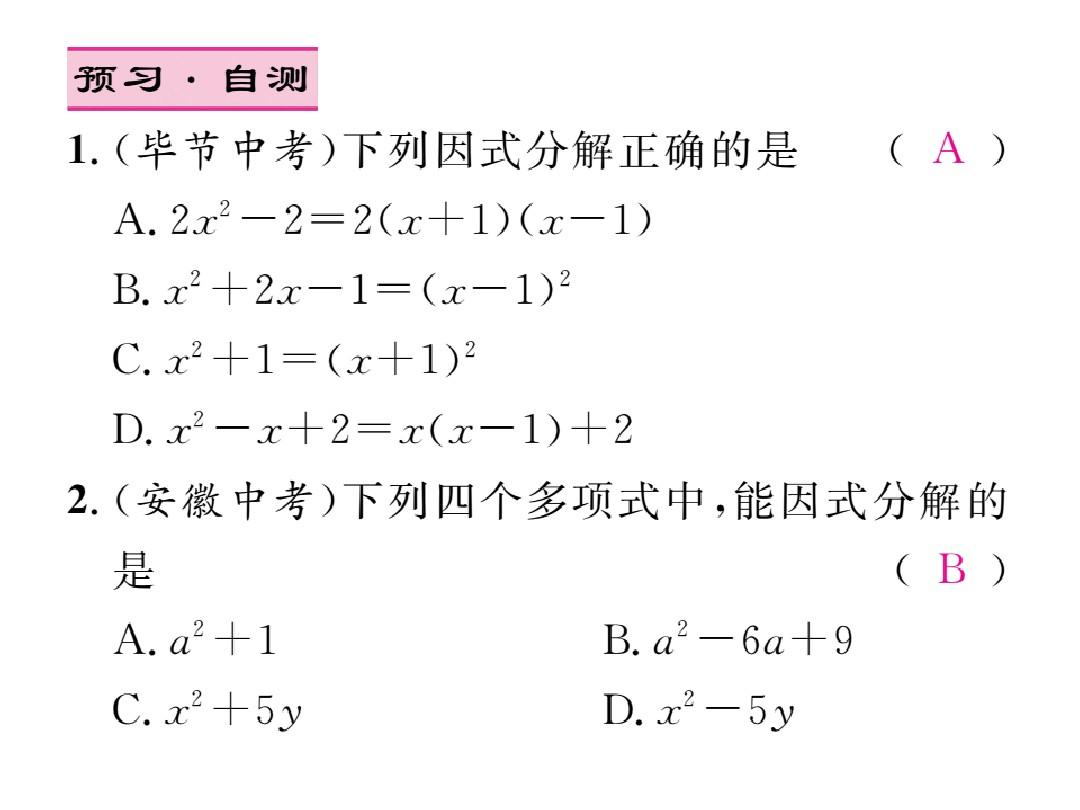square: (211, 194, 231, 221), (675, 615, 692, 641), (556, 264, 573, 289), (189, 687, 207, 710), (462, 340, 478, 363), (188, 265, 202, 290), (683, 687, 696, 711), (190, 619, 207, 637), (189, 339, 202, 361), (190, 410, 202, 433)
